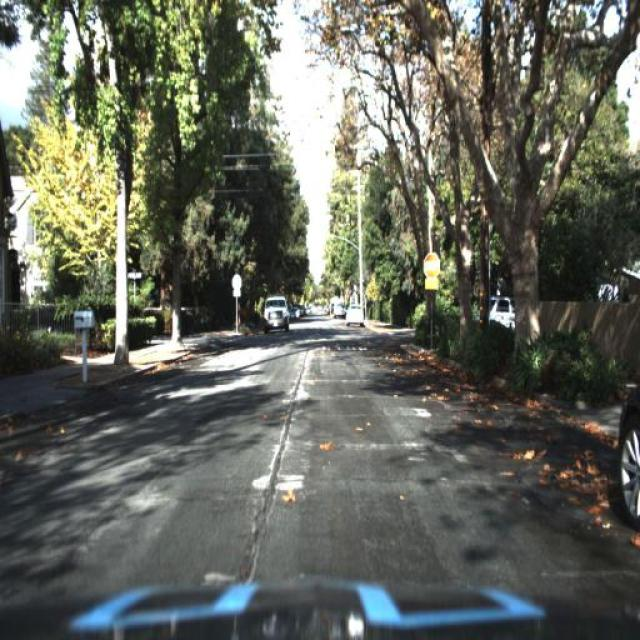car: (614, 373, 640, 534), (472, 279, 526, 343), (260, 294, 290, 336), (342, 301, 366, 328), (339, 302, 360, 328)
